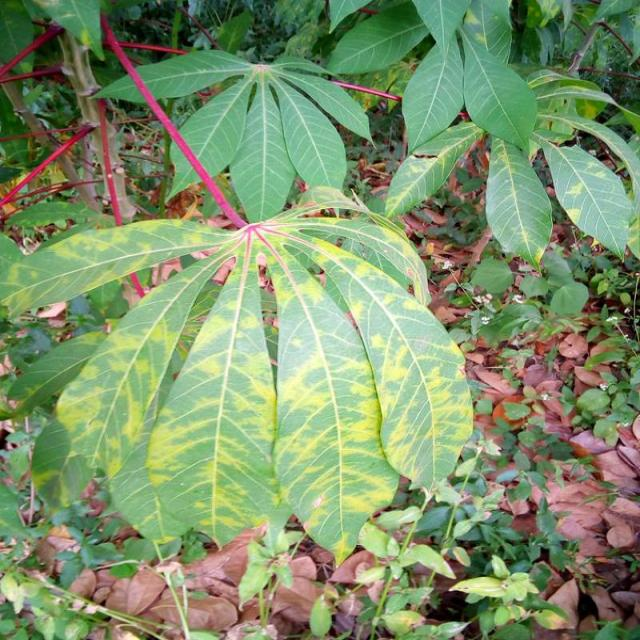cassava leaf: (9, 45, 476, 564)
